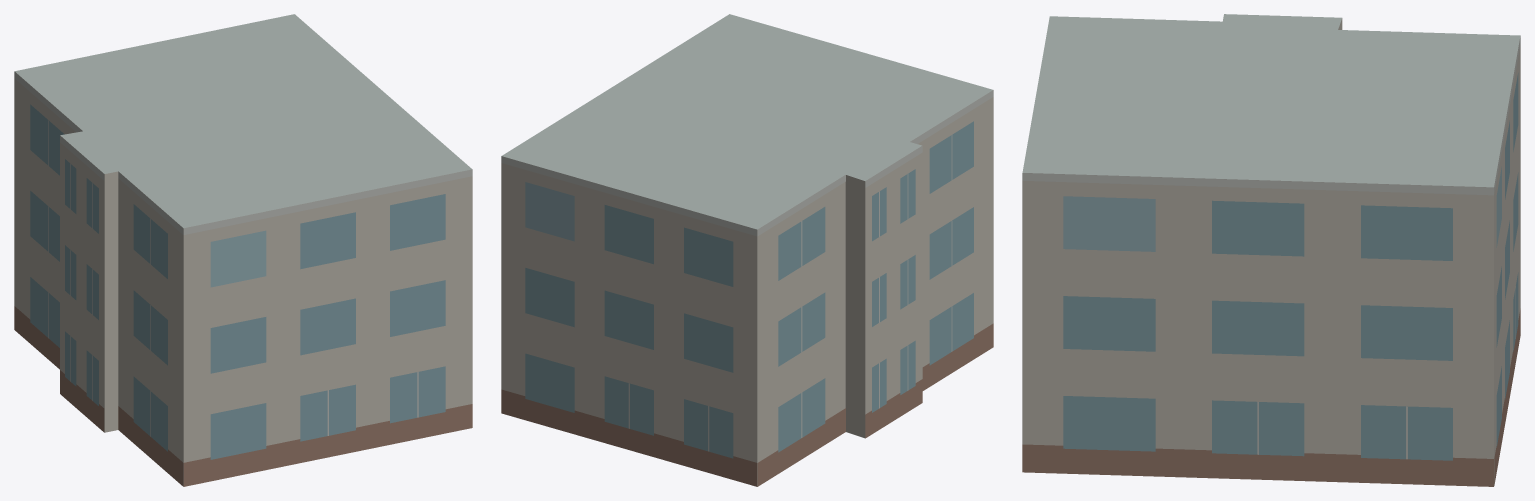
File: survey-upis-32945569.glb
3 renders of one model, left to right at view 1: azimuth 30°, elevation 25°; view 2: azimuth 150°, elevation 25°; view 3: azimuth 270°, elevation 25°, orthographic. The views are drawn at different scales.
Visible parts, largest first — view 1: survey-upis-32945569.tmp; view 2: survey-upis-32945569.tmp; view 3: survey-upis-32945569.tmp.
Part boxes in pixels (left/top/right/bottom): survey-upis-32945569.tmp: left=14, top=14, right=472, bottom=486; survey-upis-32945569.tmp: left=501, top=14, right=993, bottom=486; survey-upis-32945569.tmp: left=1022, top=14, right=1520, bottom=486.
Bounding box in the file's own units: 11.37 × 9.15 × 13.8.
